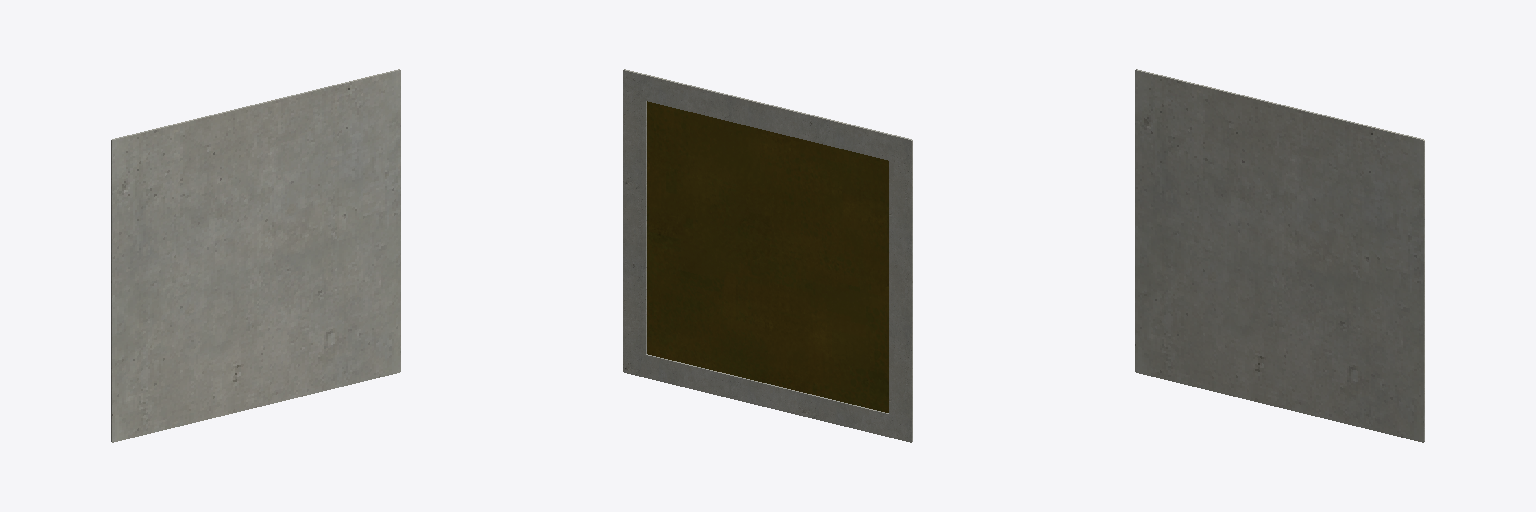
The picture shows the model from 3 angles: view 1: azimuth 30°, elevation 25°; view 2: azimuth 150°, elevation 25°; view 3: azimuth 330°, elevation 25°; orthographic projection.
Parts seen in each view (by area): view 1: blocks-dirt-pavement-20m_Plane.165; view 2: blocks-dirt-pavement-20m_Plane.165; view 3: blocks-dirt-pavement-20m_Plane.165.
Boxes of the visible parts, x1,y1,x2,y2 form: blocks-dirt-pavement-20m_Plane.165: [111, 69, 400, 442]; blocks-dirt-pavement-20m_Plane.165: [623, 69, 912, 442]; blocks-dirt-pavement-20m_Plane.165: [1135, 69, 1424, 442].
Size of the model in its own units: 20 by 20 by 0.15.
1 materials, 1 textured.